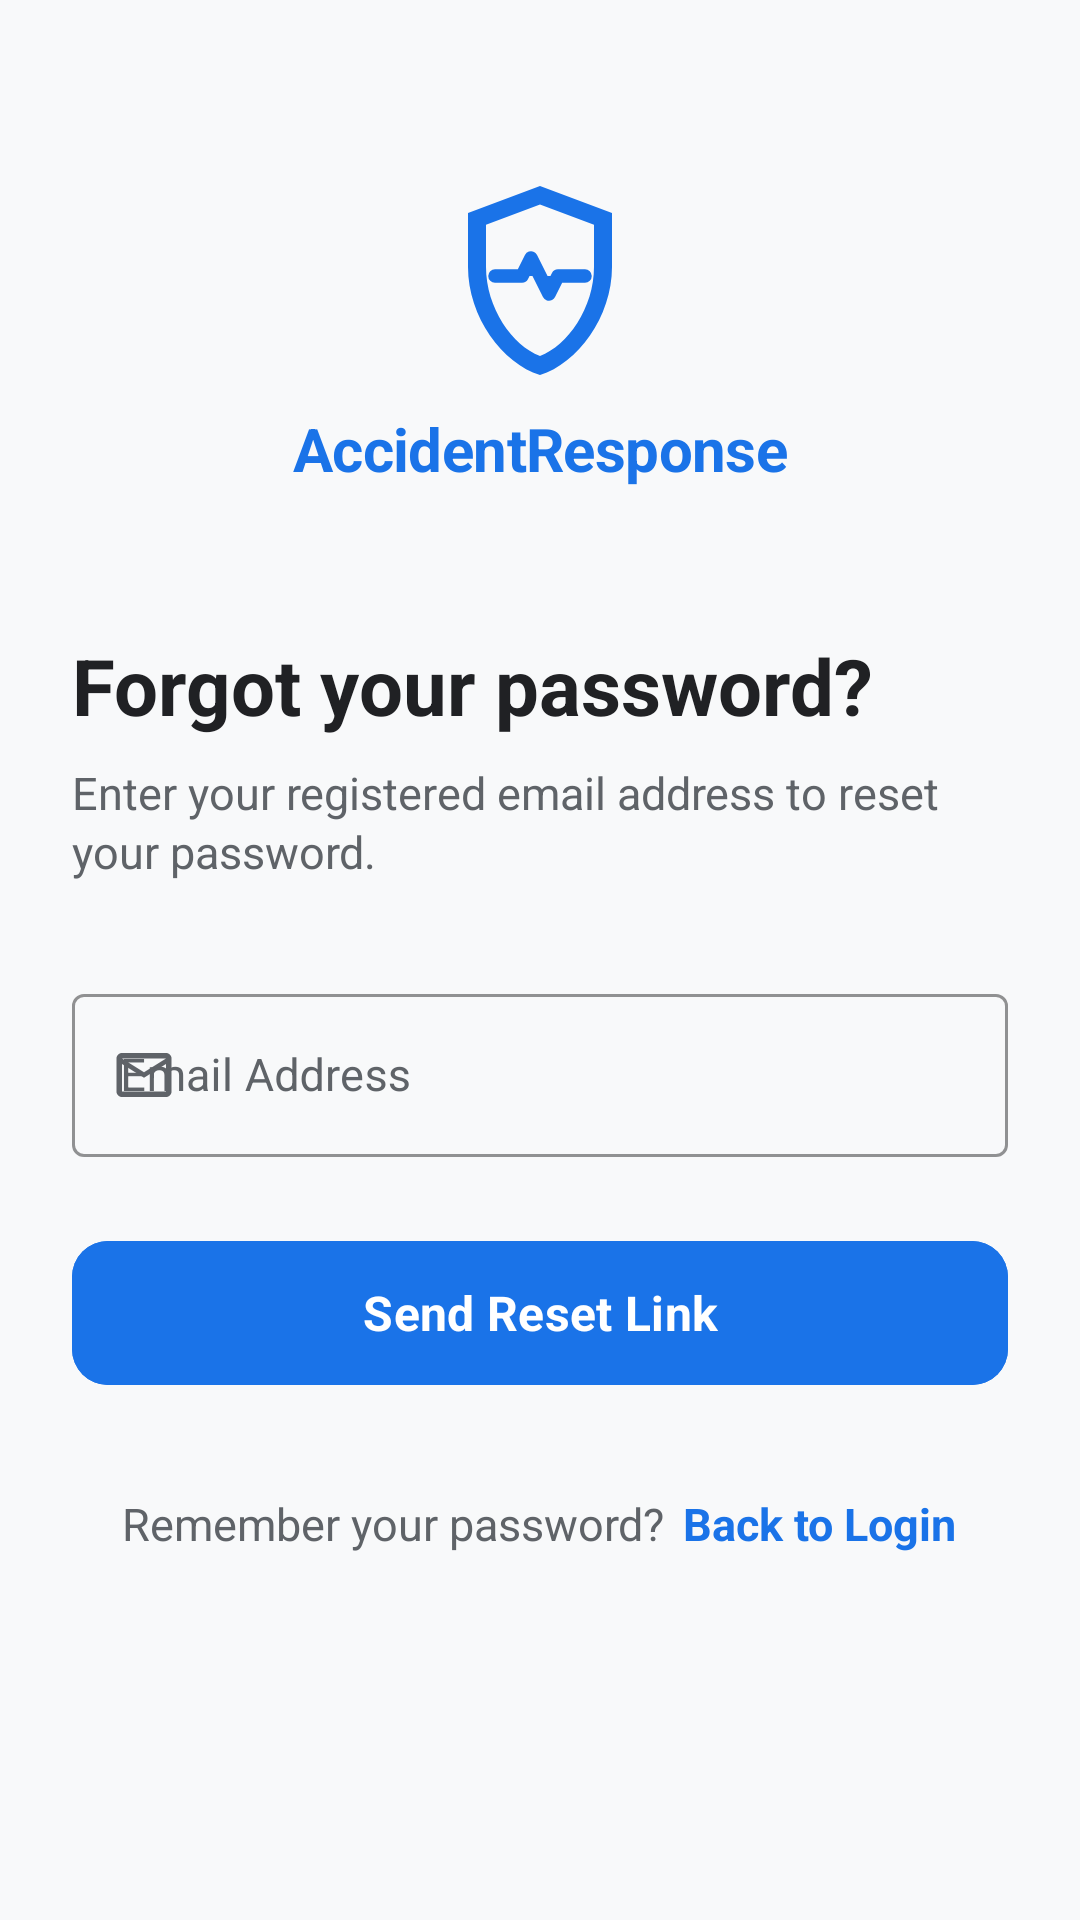

Named icons in this screenshot (1080 x 1920) and their centers, (x=x, y=y):
Safety Shield Icon: (x=540, y=280)
